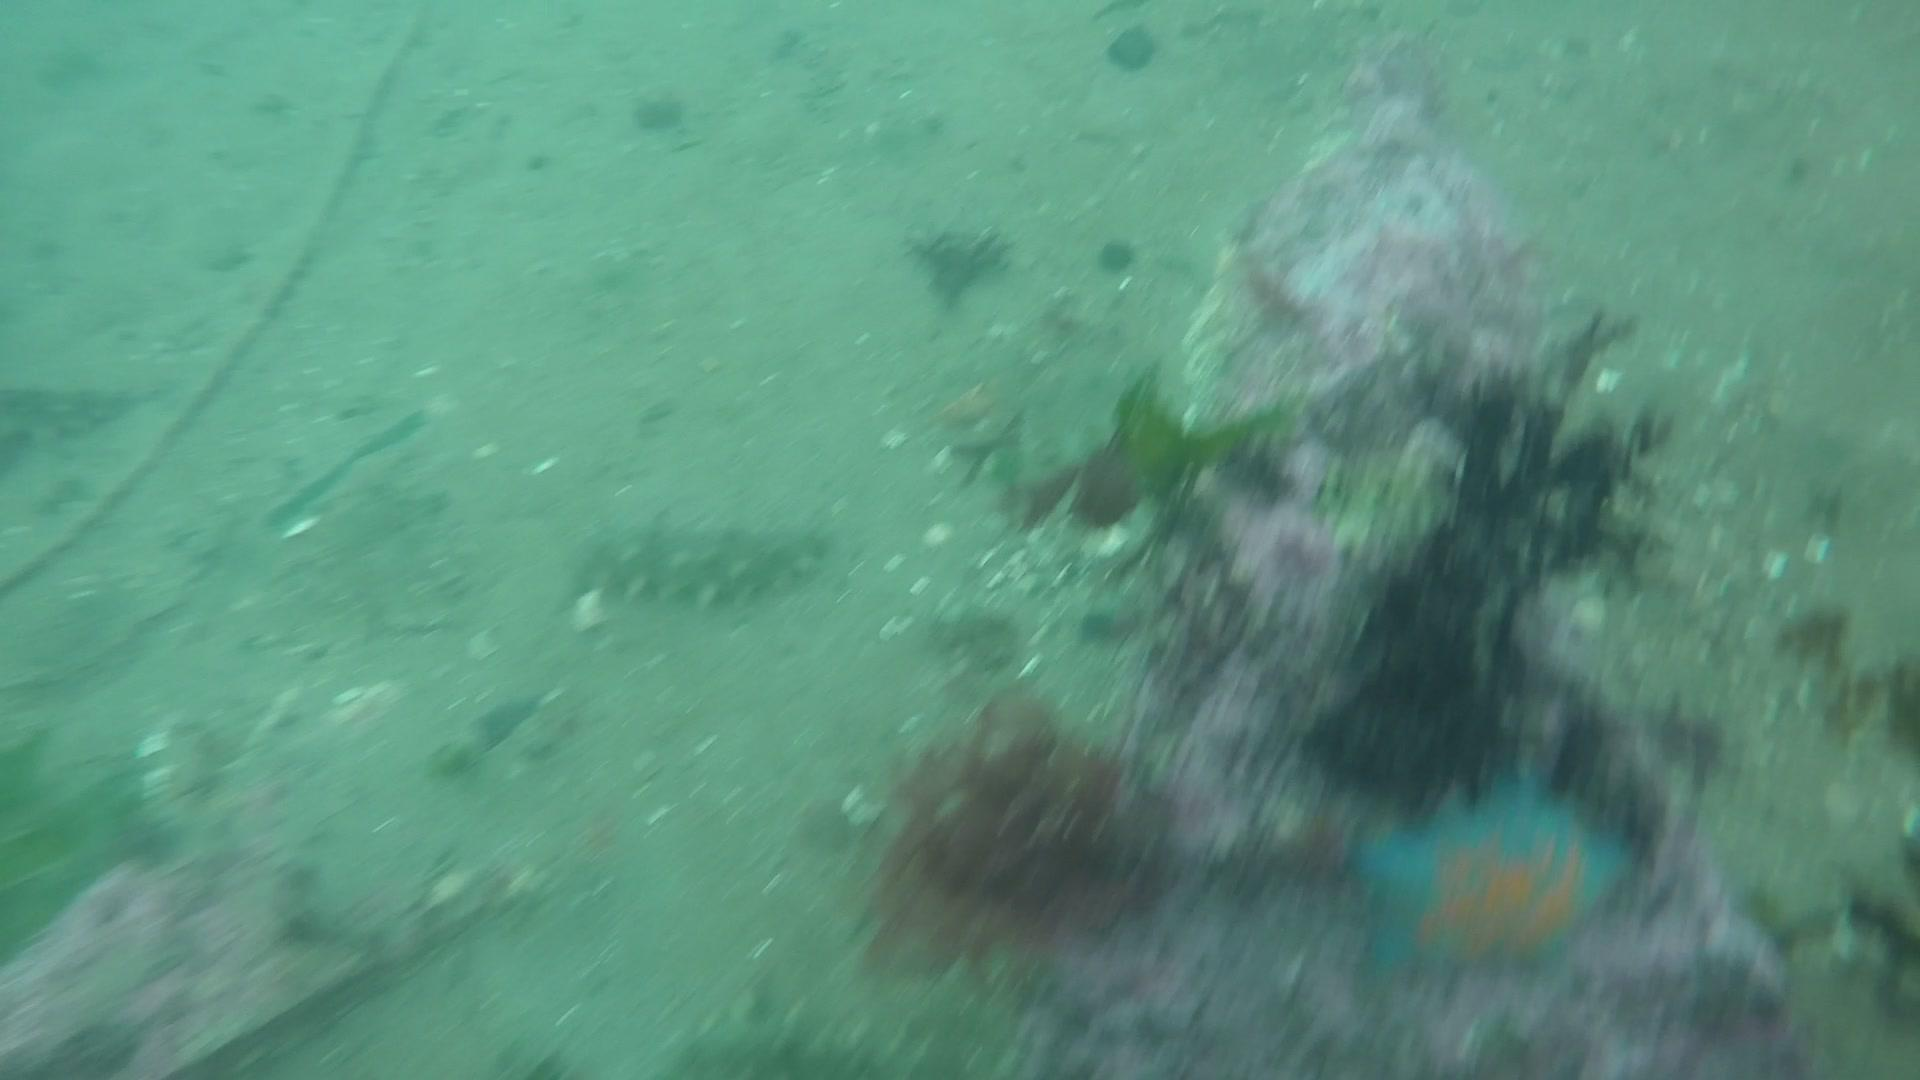holothurian: (585, 509, 843, 608)
starfish: (1360, 773, 1634, 996)
